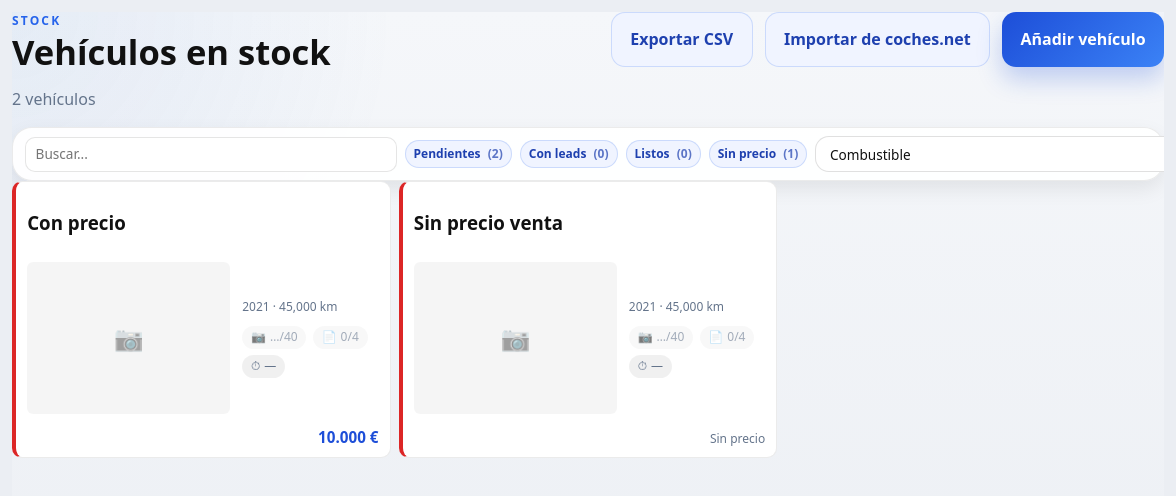
Test: StockList — filter buttons › toggles filter off when clicking active filter again
Click the button "Sin precio (1)".
click(758, 154)  # box [709,140,807,168]
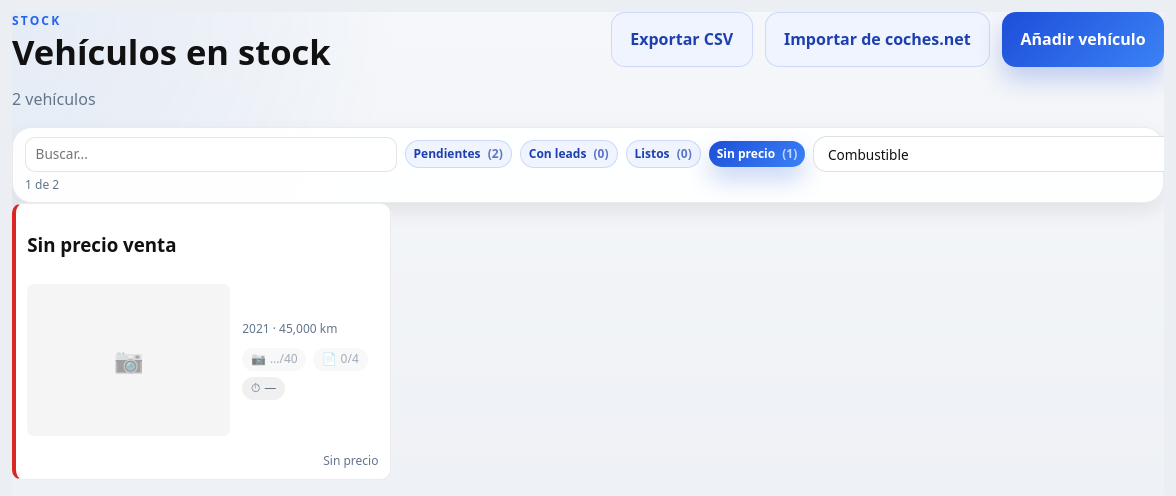
// Click again to deactivate
Click the button "Sin precio (1)".
click(757, 154)  # box [709,141,805,167]
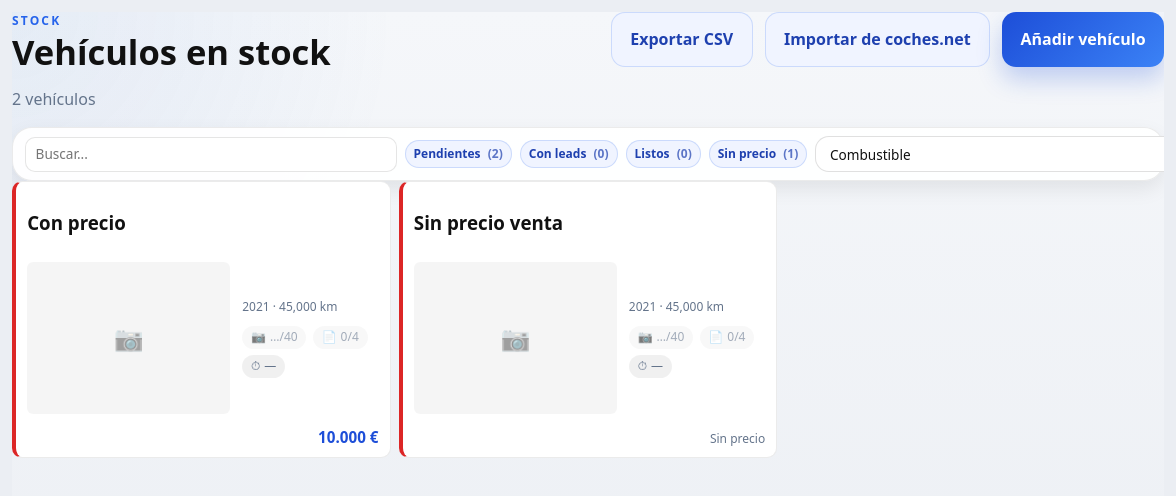
Expected: the heading "Sin precio venta" is shown, [414,209,563,237]
Result: the heading "Con precio" is shown at [27,209,126,237]
